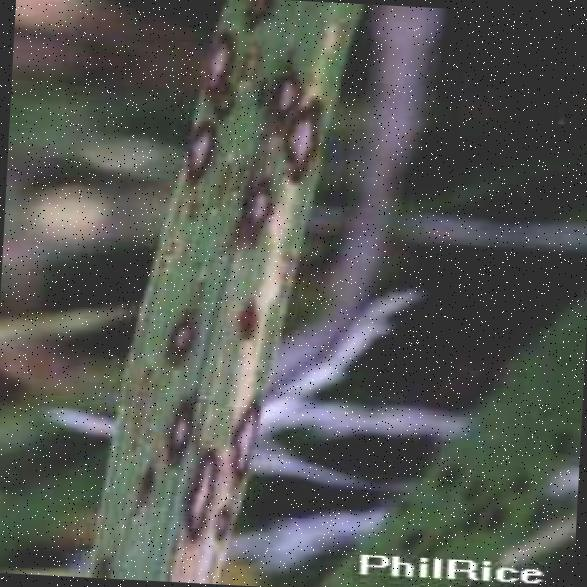Leaf_smut: (152, 272, 212, 378), (164, 109, 234, 198), (134, 387, 210, 466), (218, 382, 278, 477), (172, 438, 221, 552), (225, 169, 290, 254), (194, 20, 240, 112), (278, 89, 321, 177), (252, 52, 304, 113)
